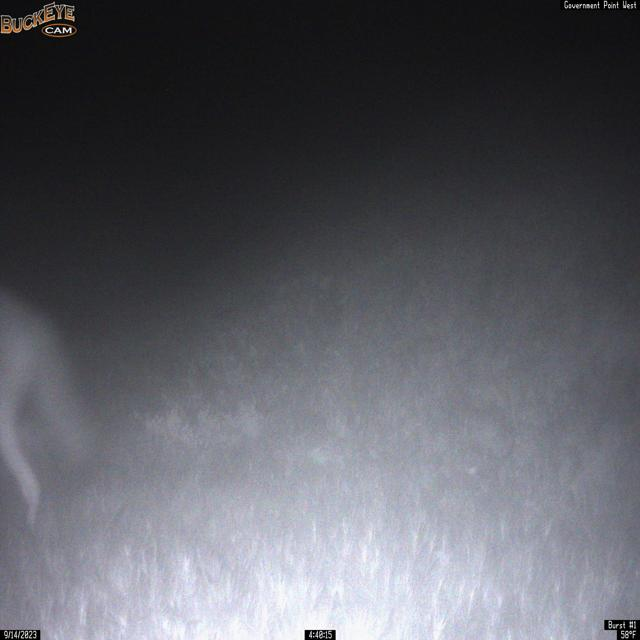coyote: (0, 279, 102, 535)
